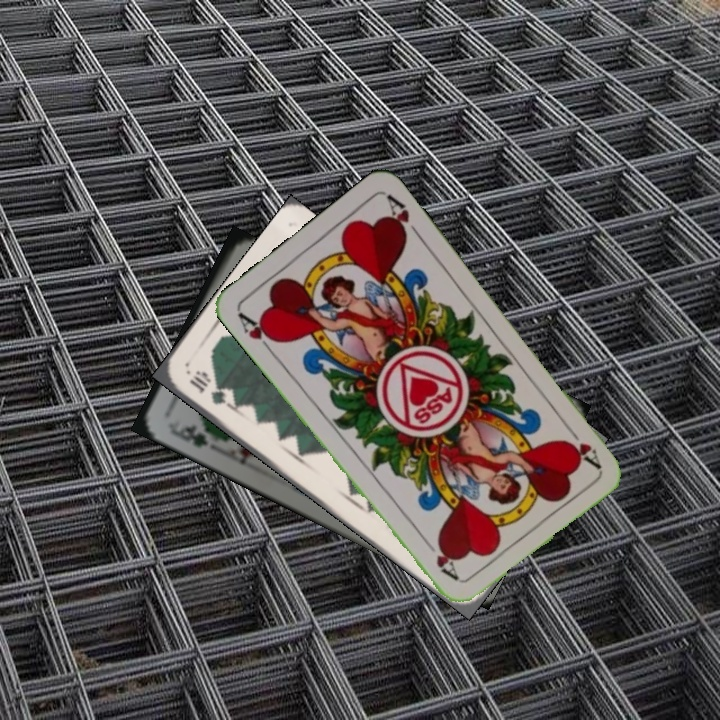G10: (185, 367, 238, 411)
GK: (168, 420, 211, 450)
HA: (233, 308, 281, 358), (560, 419, 603, 471)
